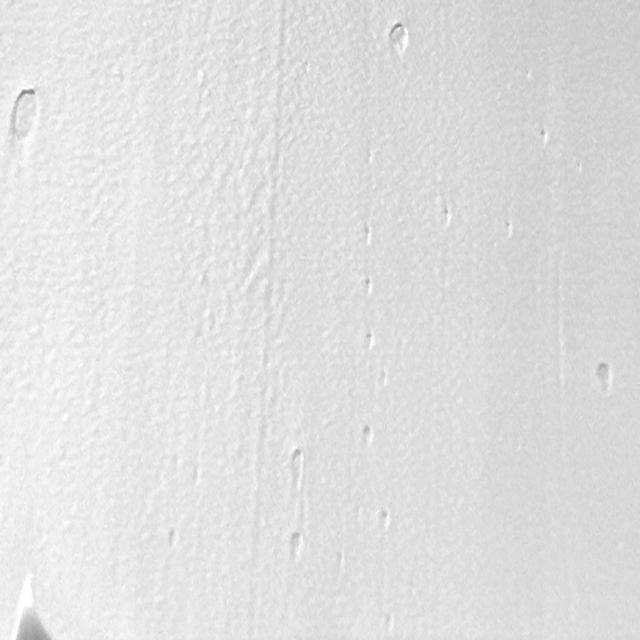pin holes: (1, 84, 45, 153), (18, 610, 54, 640), (385, 21, 411, 58), (592, 360, 616, 394), (287, 448, 306, 478), (286, 532, 304, 561), (360, 422, 378, 448), (381, 612, 400, 636), (376, 507, 393, 533), (358, 224, 376, 247), (439, 206, 456, 230), (535, 125, 552, 149), (360, 276, 376, 299), (376, 370, 392, 392), (167, 526, 180, 552), (364, 331, 376, 352), (504, 221, 516, 238)
